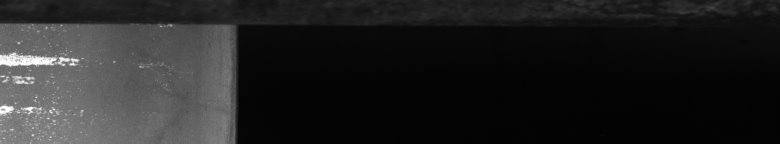kb: (4, 16, 228, 136)
